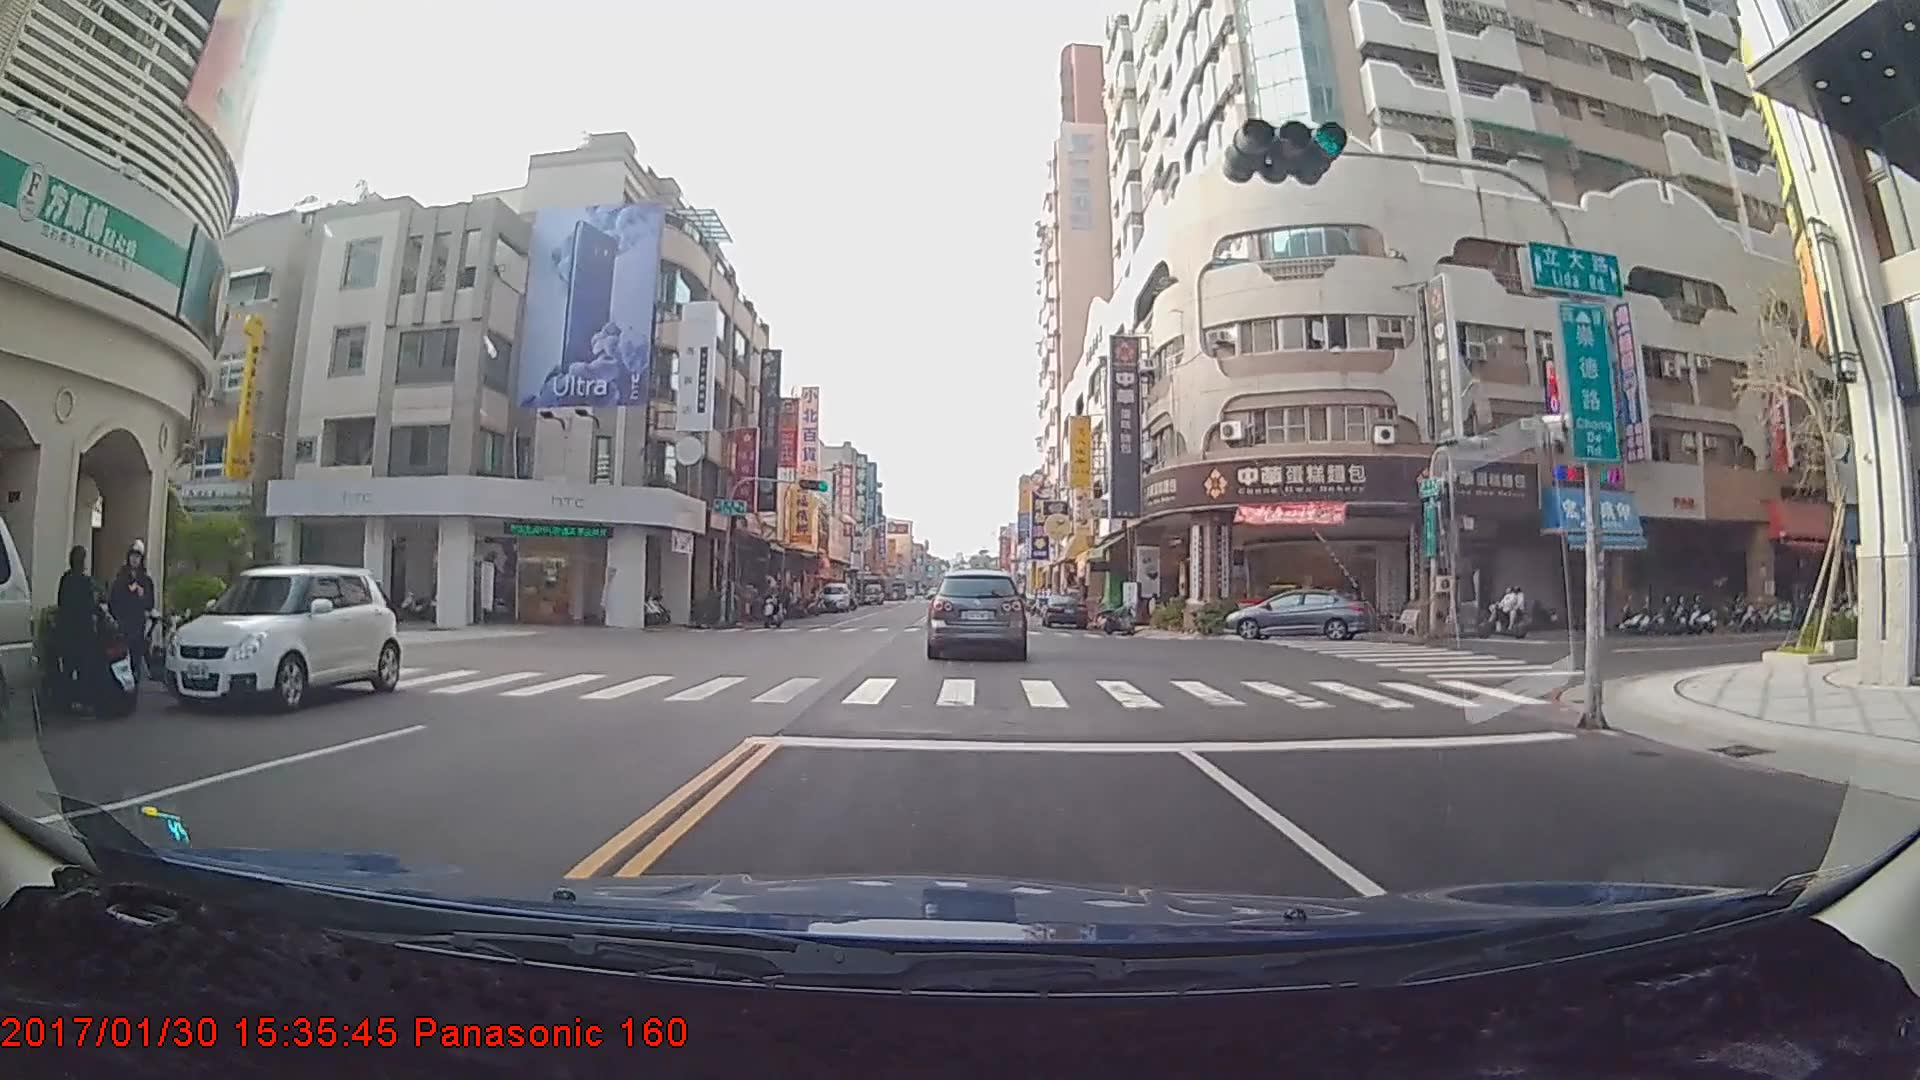pedestrian: (107, 530, 160, 708)
rider: (1475, 587, 1535, 639), (755, 581, 788, 633)
vehicle: (172, 565, 400, 711), (929, 569, 1025, 659), (1222, 587, 1374, 639), (1043, 593, 1090, 629), (819, 581, 851, 612)
